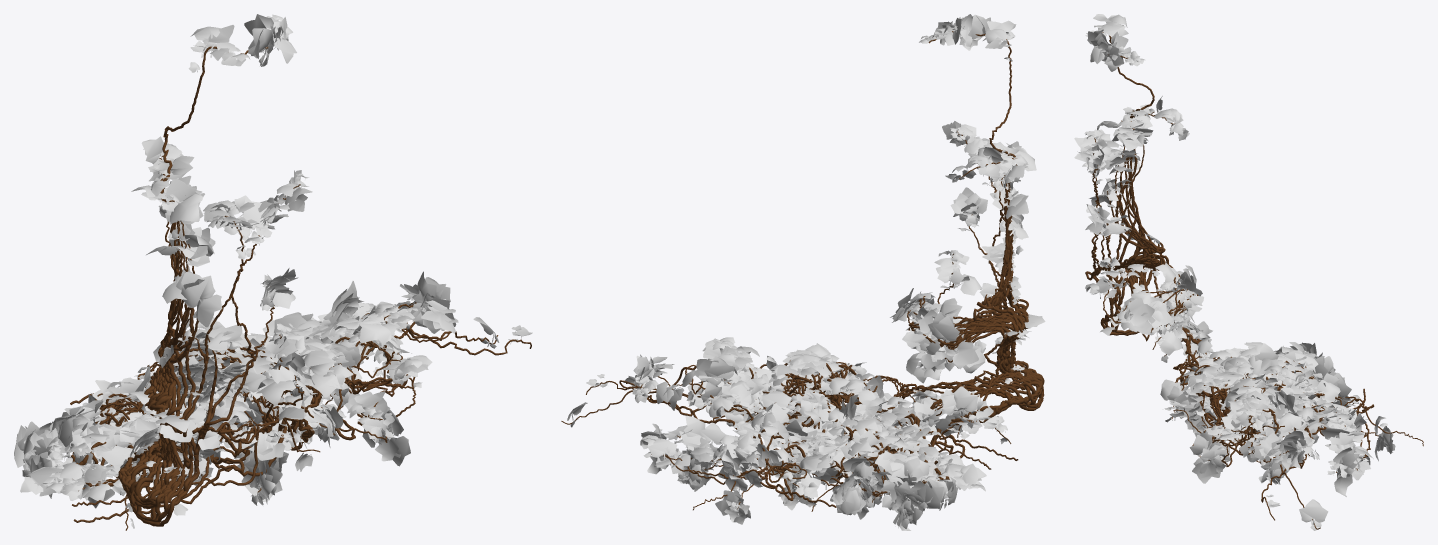
Rendered from garden_pillar_ivy_02.fbx.
The picture shows the model from 3 angles, left to right: view 1: azimuth 30°, elevation 25°; view 2: azimuth 150°, elevation 25°; view 3: azimuth 270°, elevation 25°; orthographic projection. The views are drawn at different scales.
Visible parts, largest first — view 1: IVY_Curve.005; view 2: IVY_Curve.005; view 3: IVY_Curve.005.
Part boxes in pixels (x1,y1,x2,y2): IVY_Curve.005: [14, 14, 532, 530]; IVY_Curve.005: [561, 14, 1045, 530]; IVY_Curve.005: [1074, 14, 1423, 530].
Size of the model in its own units: 9.08 by 9.91 by 7.55.
